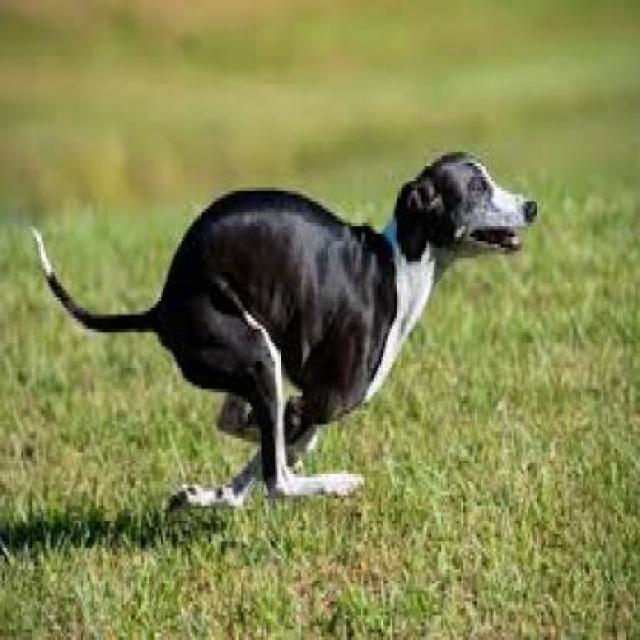animals: (17, 100, 557, 588)
